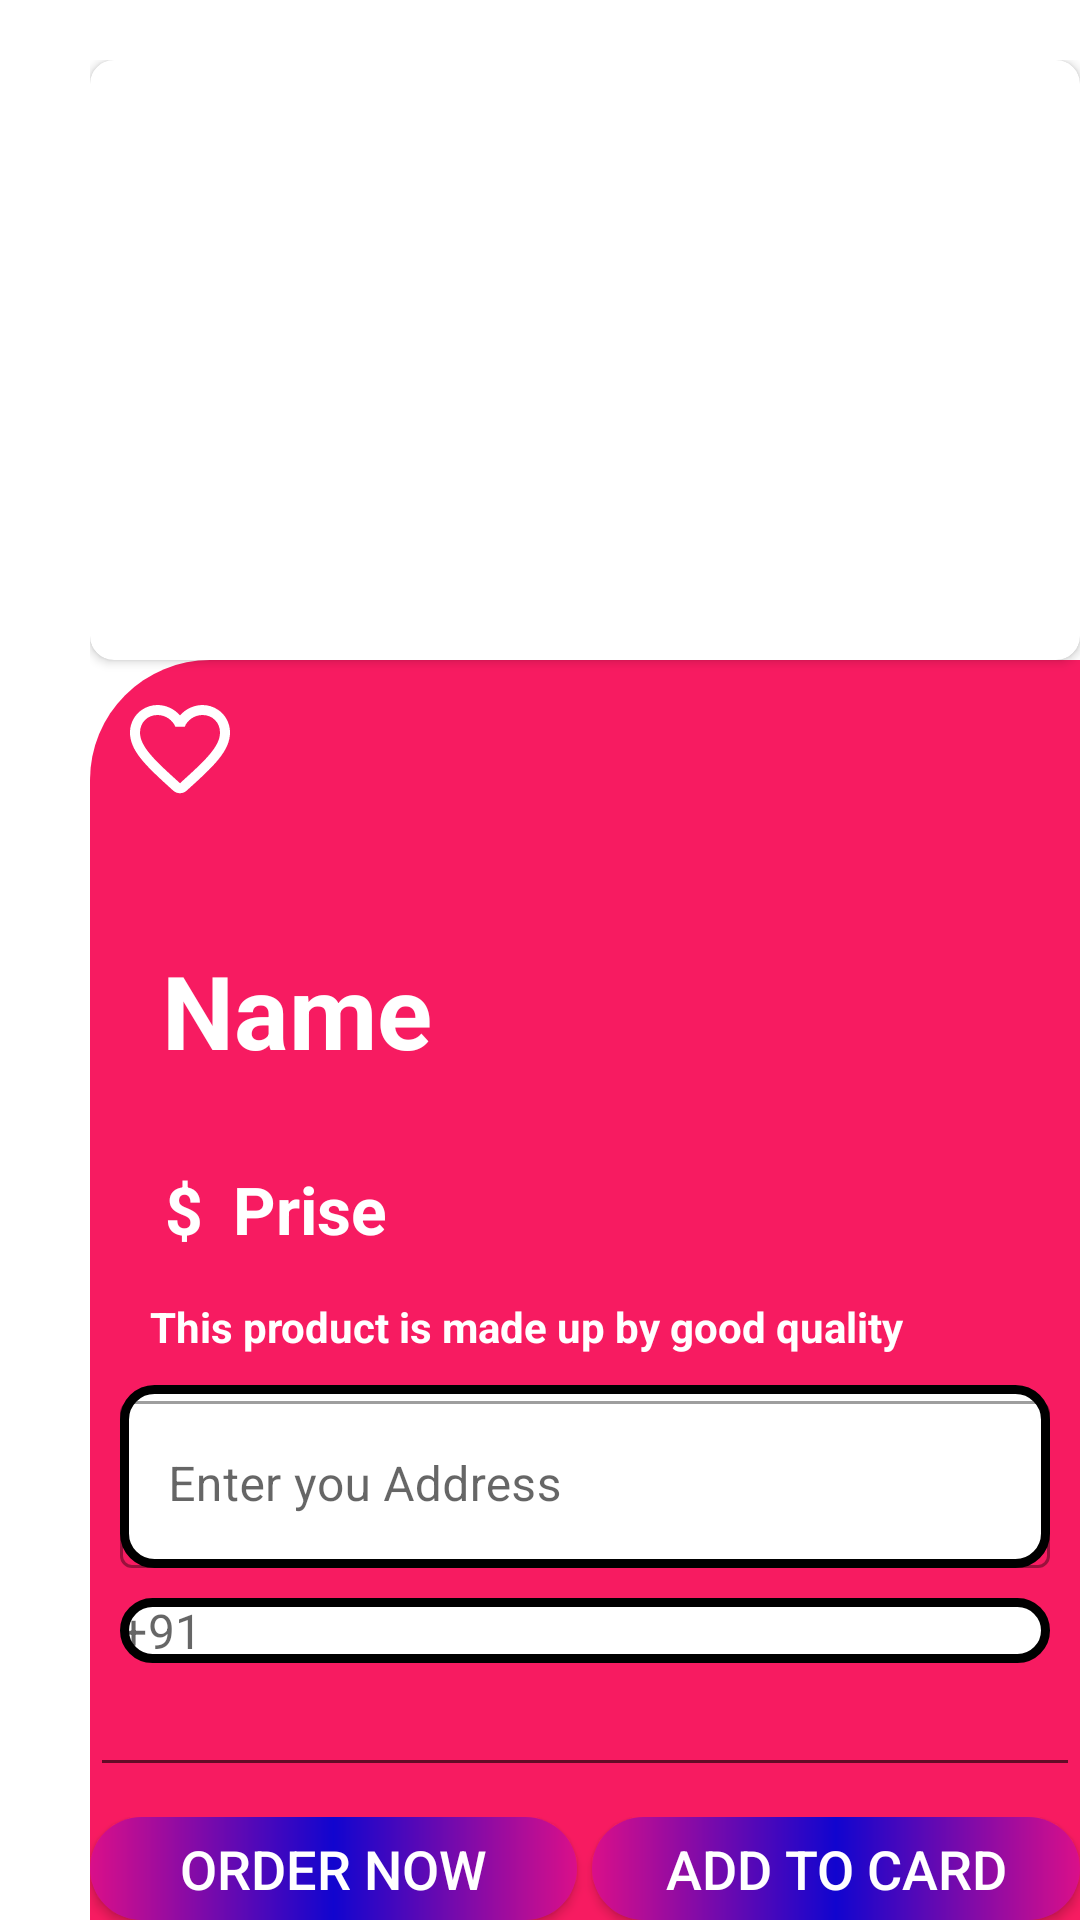

Where to tap for icons on this 1080 x 1920 app screen, as (x,y):
hart hollow: (180,749)
